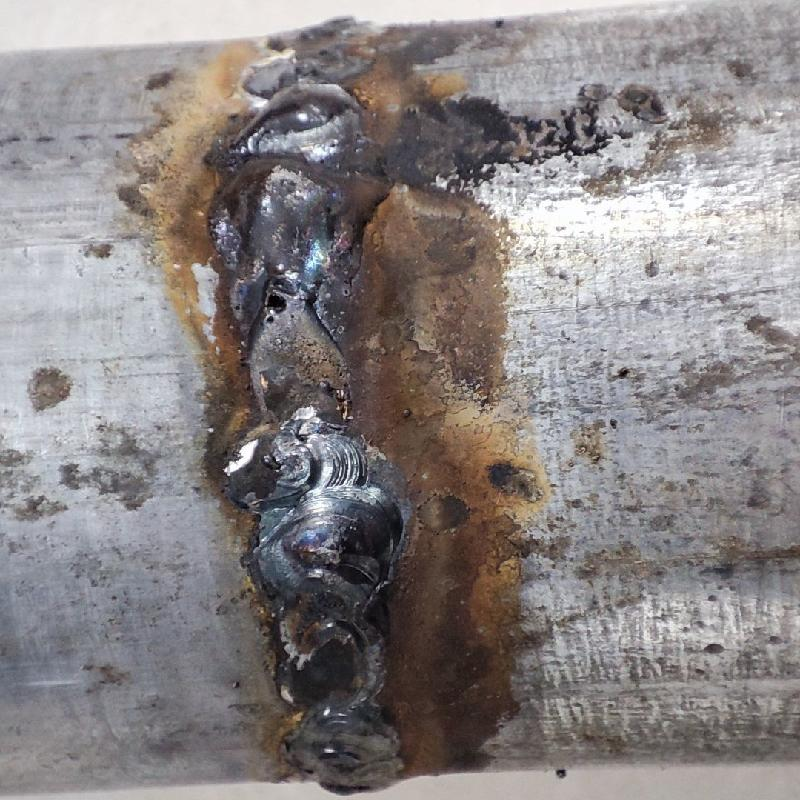Not_fully_soldered: (223, 274, 354, 425)
Surface_pores: (256, 285, 292, 324)
wrong_size: (225, 427, 403, 782)
